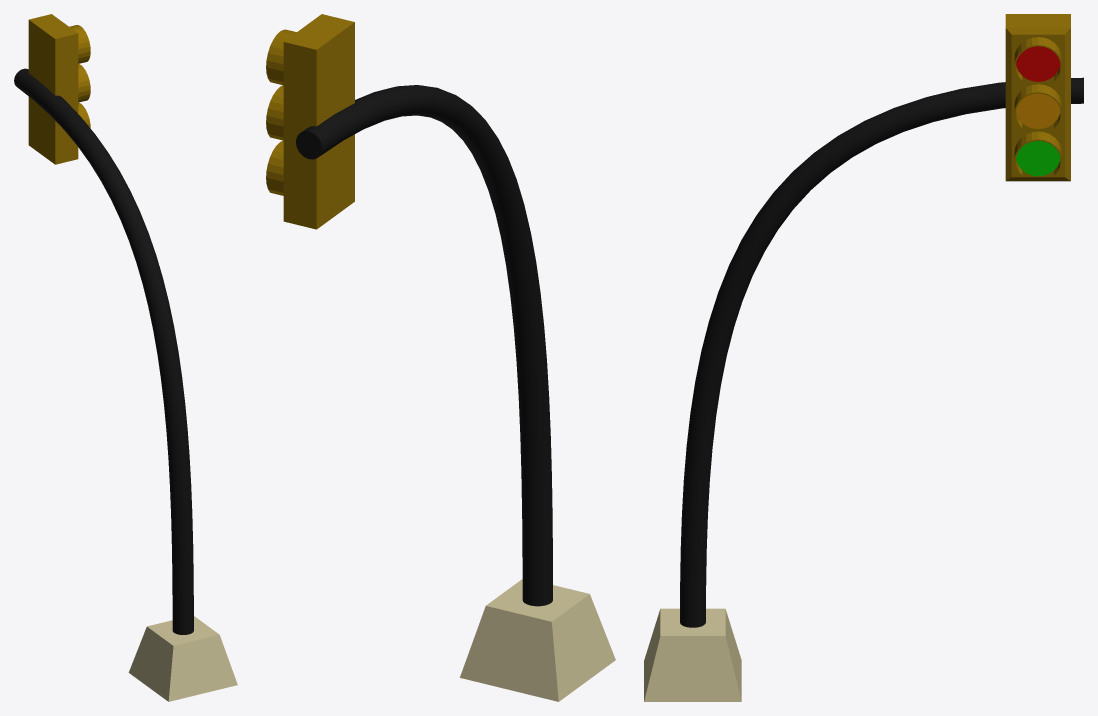
File: Semaforo.obj
3 renders of one model, left to right at view 1: azimuth 30°, elevation 25°; view 2: azimuth 150°, elevation 25°; view 3: azimuth 270°, elevation 25°, orthographic. The views are drawn at different scales.
Visible parts, largest first — view 1: Semaforo_^_^; view 2: Semaforo_^_^; view 3: Semaforo_^_^.
Boxes of the visible parts, x1,y1,x2,y2 form: Semaforo_^_^: [14, 14, 237, 701]; Semaforo_^_^: [266, 14, 615, 701]; Semaforo_^_^: [644, 14, 1083, 701].
Size of the model in its own units: 1.59 by 11.3 by 6.75.
